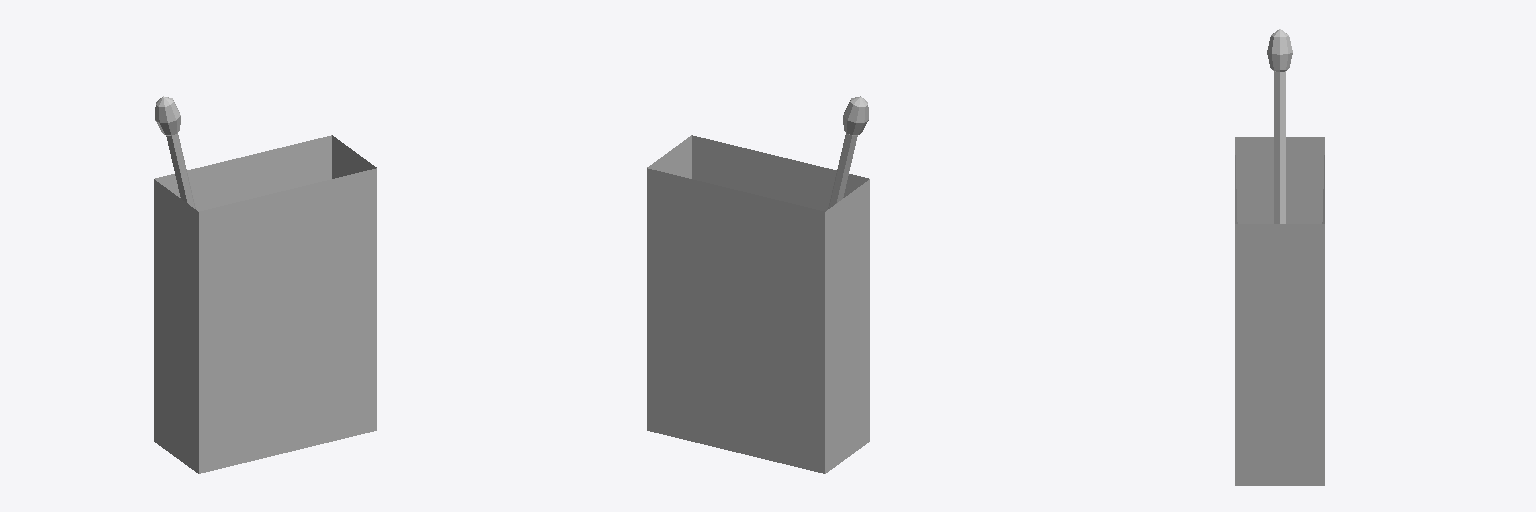
File: Match.obj
3 renders of one model, left to right at view 1: azimuth 30°, elevation 25°; view 2: azimuth 150°, elevation 25°; view 3: azimuth 270°, elevation 25°, orthographic.
Visible parts, largest first — view 1: MAtch2; view 2: MAtch2; view 3: MAtch2.
Part boxes in pixels (x1,y1,x2,y2): MAtch2: (154, 96, 376, 473); MAtch2: (647, 96, 869, 473); MAtch2: (1235, 29, 1324, 485).
Bounding box in the file's own units: 13.86 × 24.43 × 5.47.